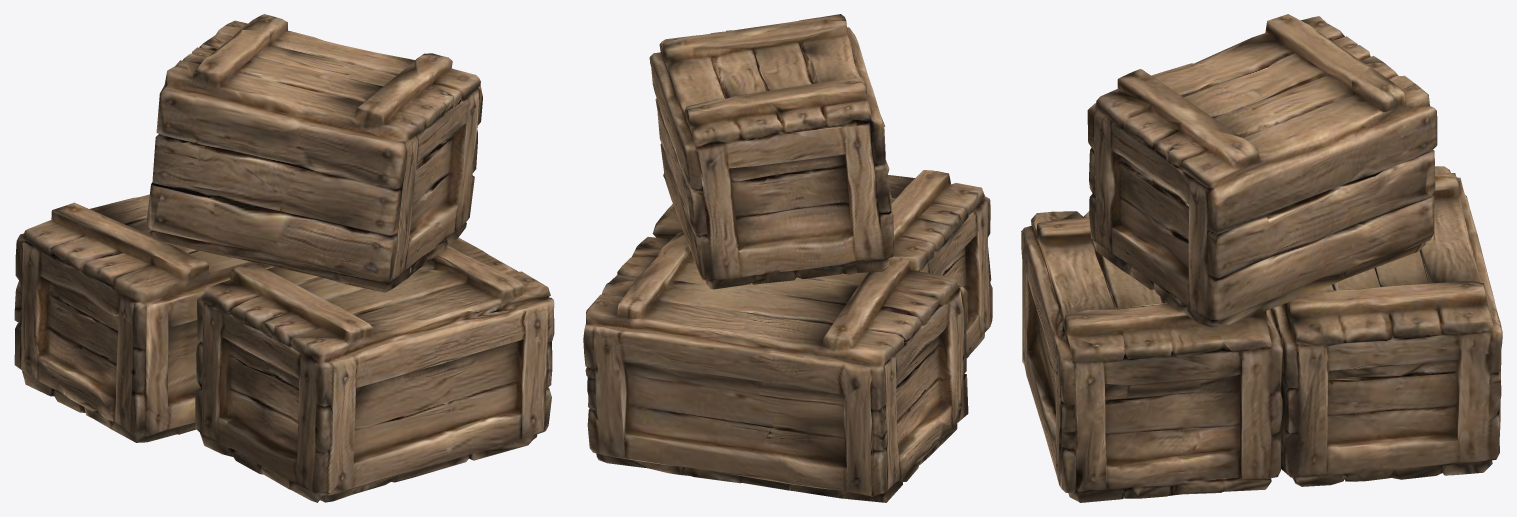
Rendered from crates.glb.
3 views of the same model, side by side, from view 1: azimuth 30°, elevation 25°; view 2: azimuth 150°, elevation 25°; view 3: azimuth 270°, elevation 25° (orthographic). The views are drawn at different scales.
Visible parts, largest first — view 1: tripo_node_996c9cfb-ffe7-4940-9099-66707529e8e5; view 2: tripo_node_996c9cfb-ffe7-4940-9099-66707529e8e5; view 3: tripo_node_996c9cfb-ffe7-4940-9099-66707529e8e5.
Part boxes in pixels (x1,y1,x2,y2): tripo_node_996c9cfb-ffe7-4940-9099-66707529e8e5: [14, 14, 554, 502]; tripo_node_996c9cfb-ffe7-4940-9099-66707529e8e5: [583, 14, 992, 502]; tripo_node_996c9cfb-ffe7-4940-9099-66707529e8e5: [1021, 14, 1502, 502].
Bounding box in the file's own units: 0.8805 × 0.8488 × 1.
Materials: 1 (1 with a texture image).
